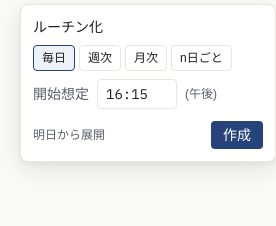
Test: RoutinizePopover（画面定義書01 §4.1 / O-12: 最小の入力でタスクからルーチンを作る） › n日ごとの既定は2日
This screenshot has width=276, height=226.
Click the button "n日ごと".
click(201, 58)  # box [171,45,232,71]
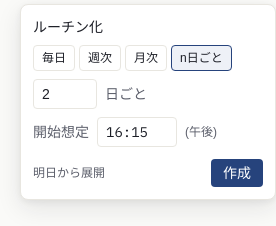
Check: the number field labelled "日ごと" holds "2", box [33,79,97,109]
